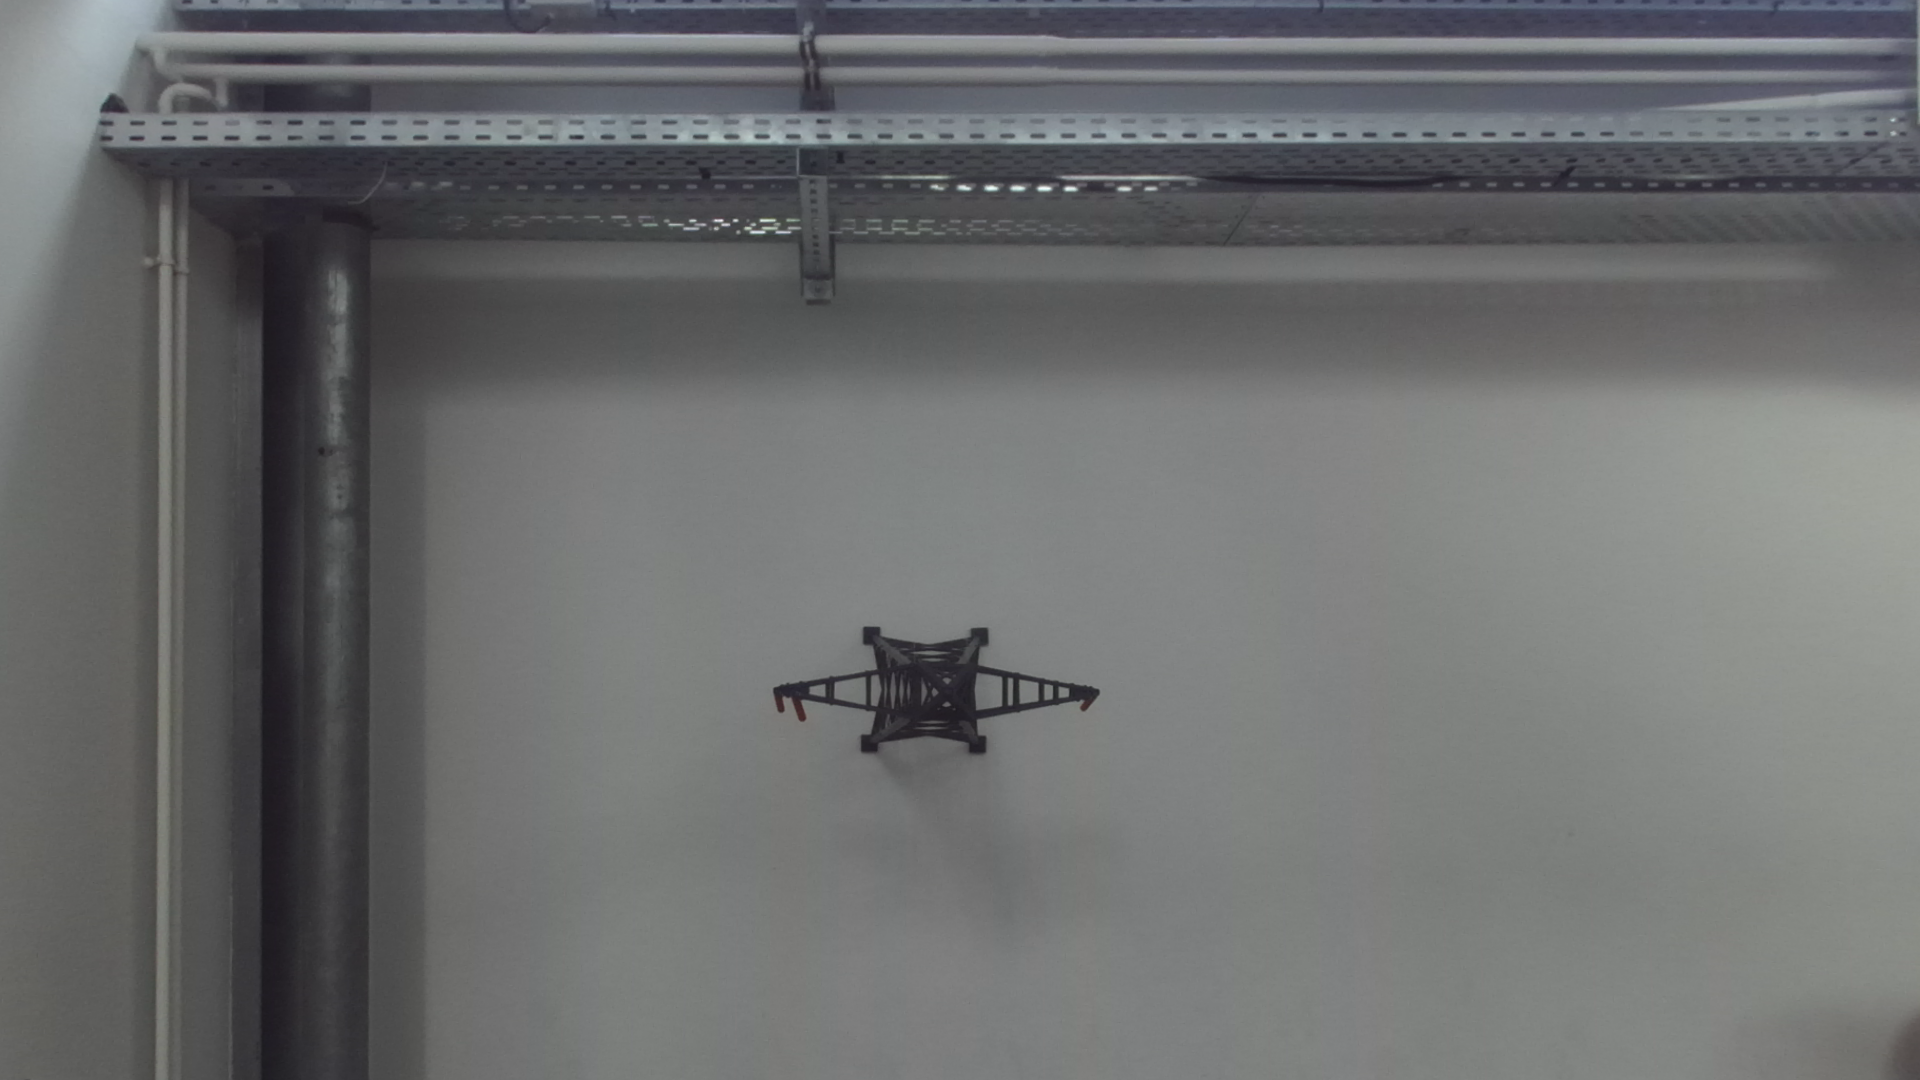pylon_phy: (771, 665, 1102, 723)
